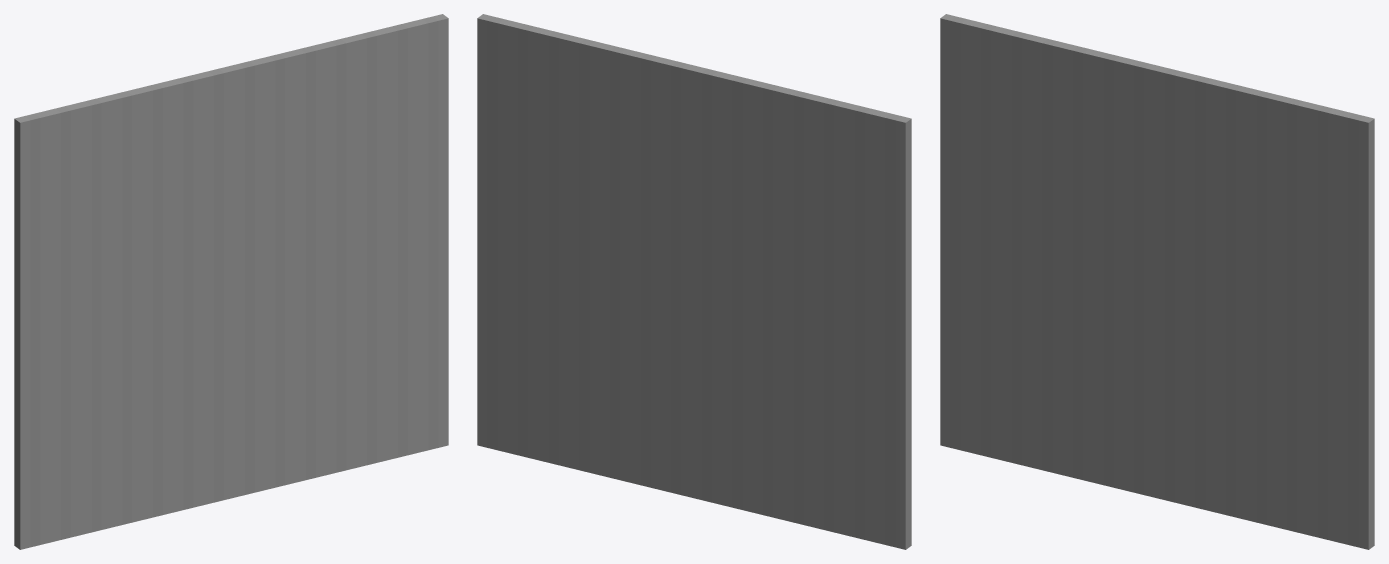
Rendered from стена верхняя часть.obj.
3 renders of one model, left to right at view 1: azimuth 30°, elevation 25°; view 2: azimuth 150°, elevation 25°; view 3: azimuth 330°, elevation 25°, orthographic.
Bounding box in the file's own units: 4.2 × 4 × 0.1.
1 material, 1 textured.
